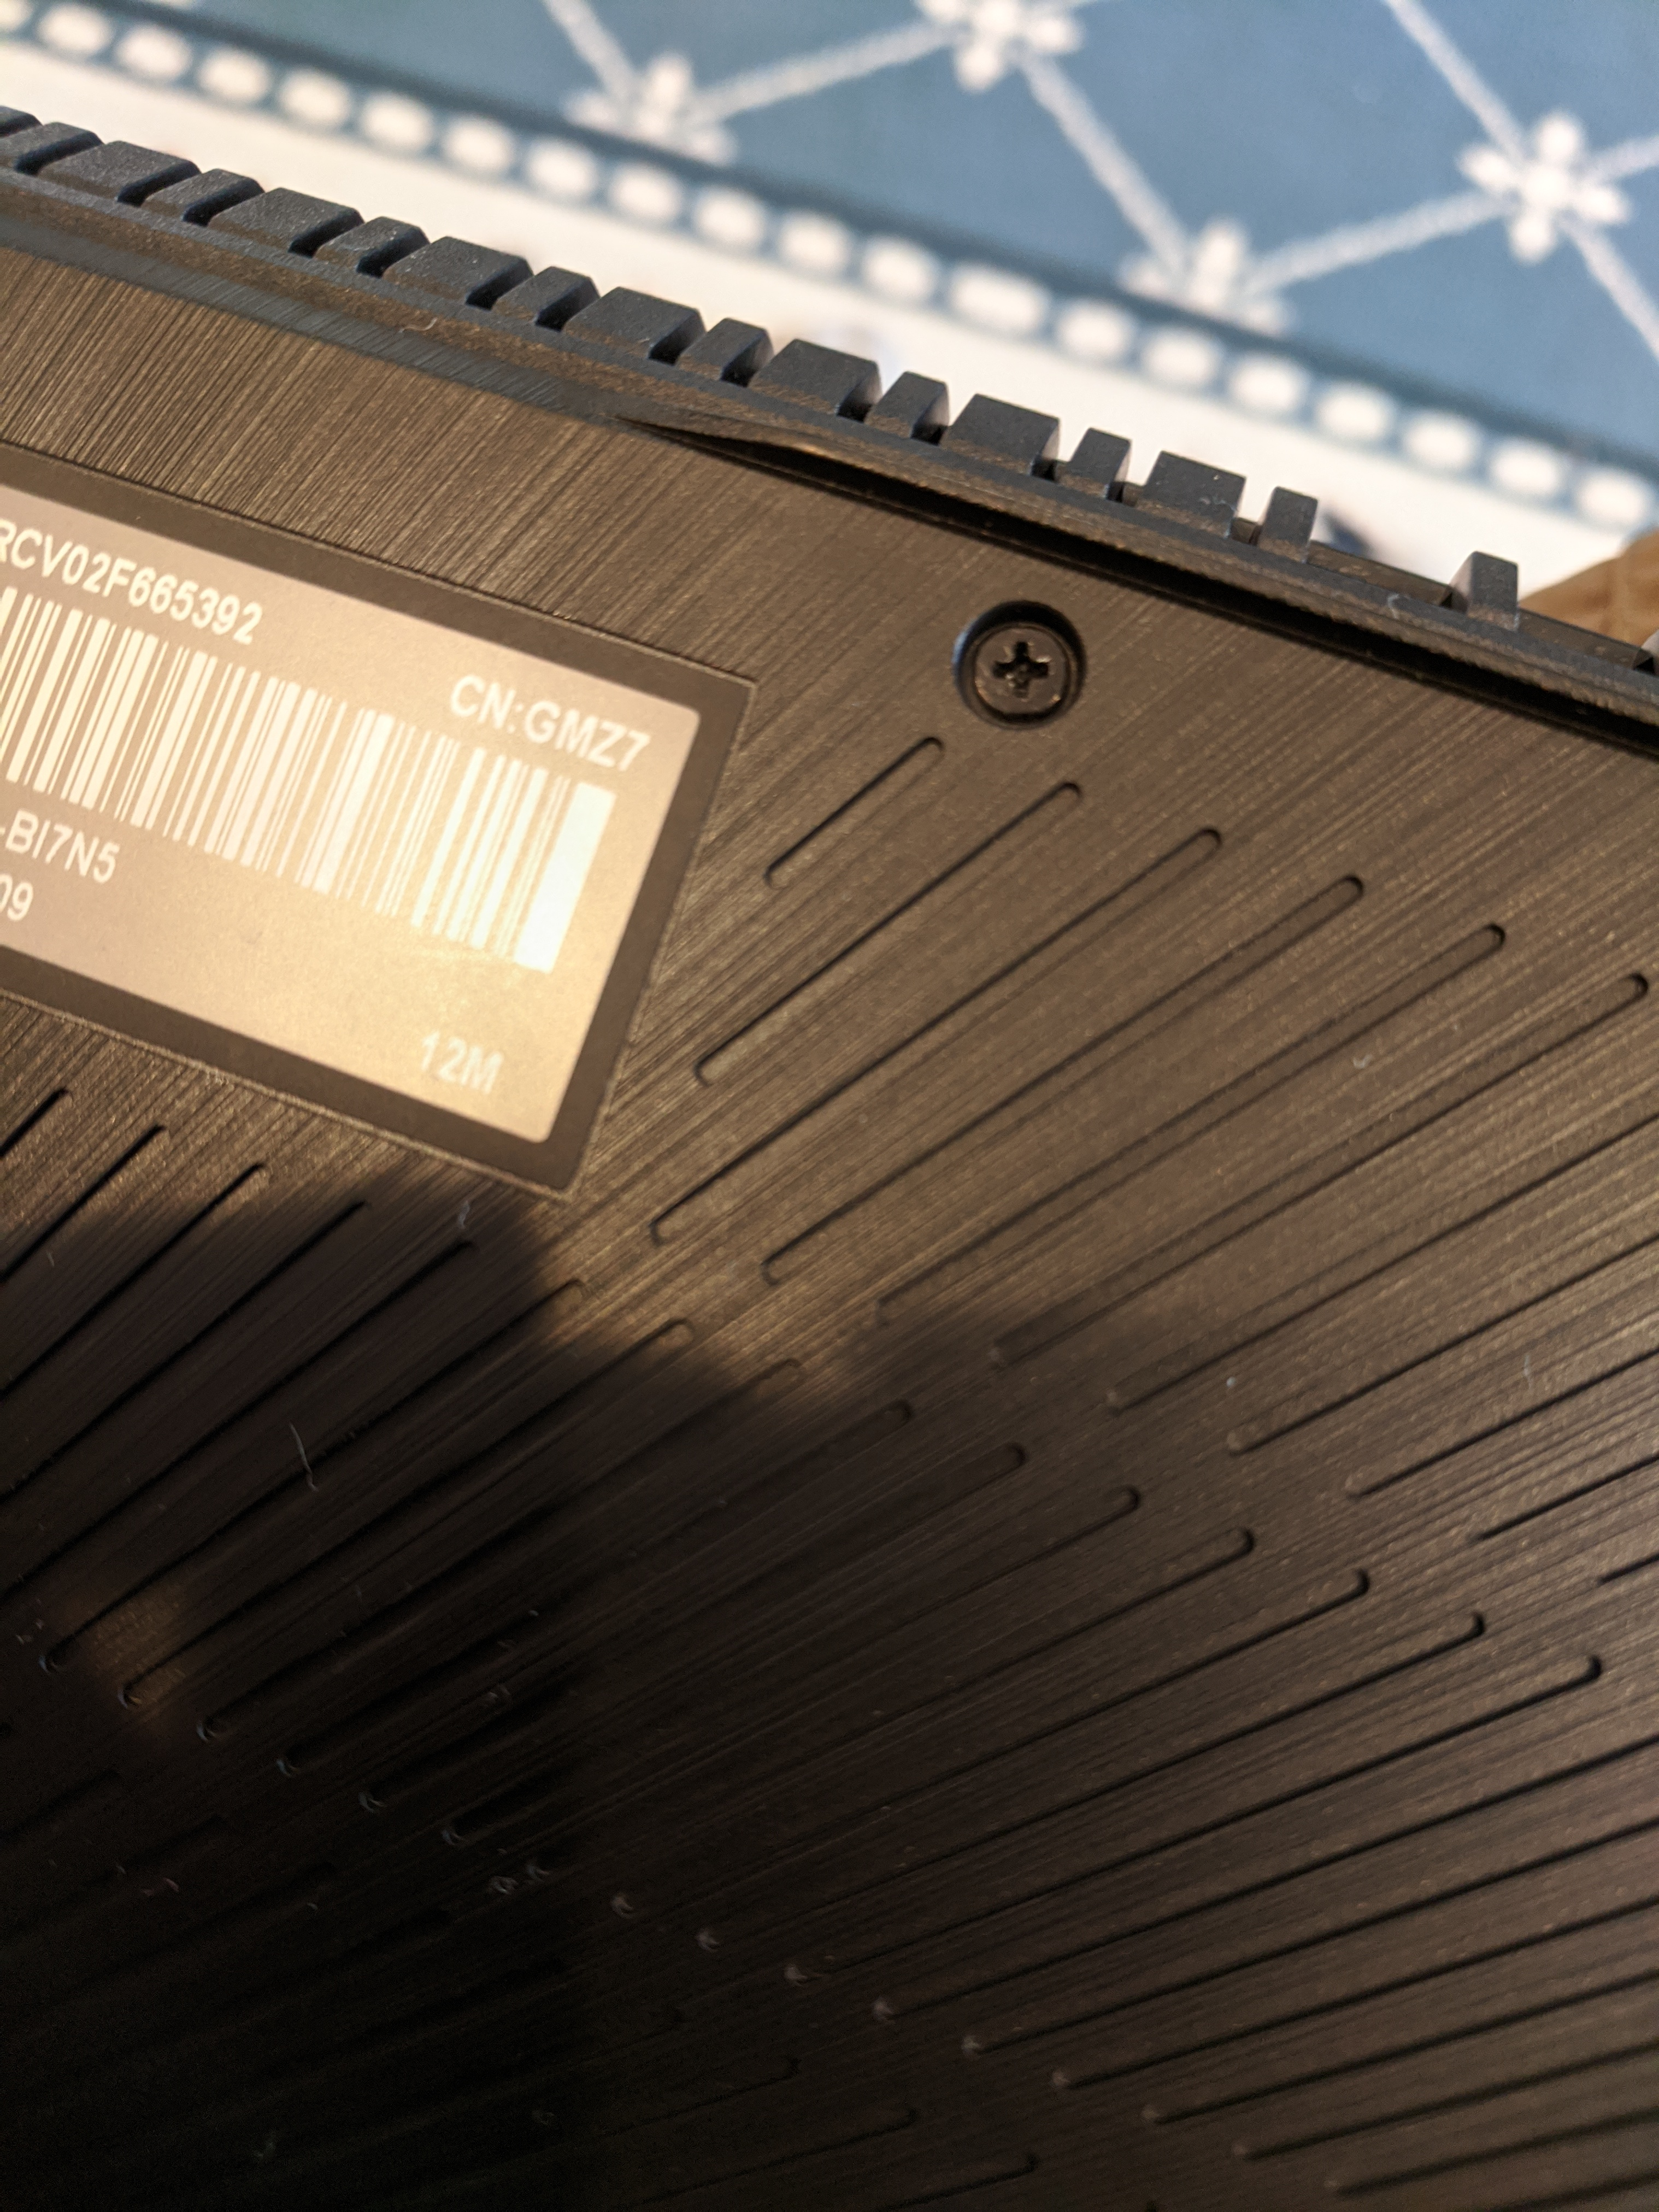cross_recessed_screw: (953, 597, 1086, 728)
